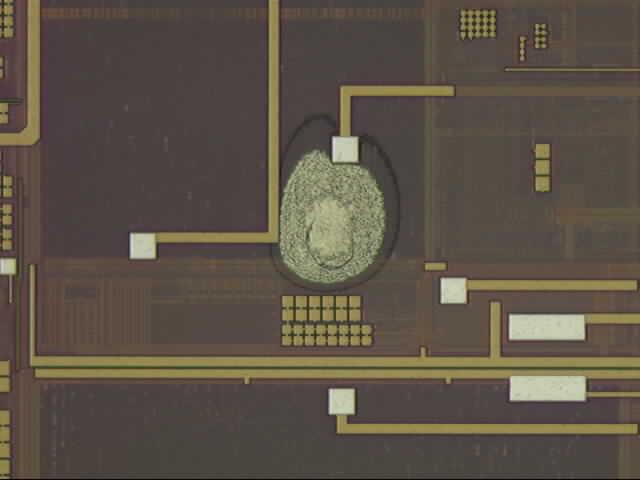COATING BAD: (265, 112, 410, 297)
